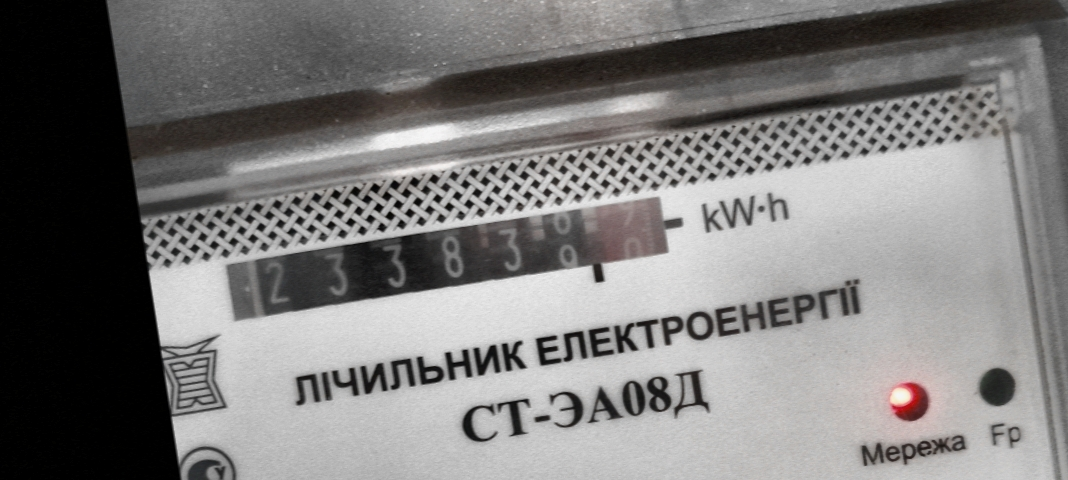0: (619, 232, 644, 261)
2: (260, 257, 291, 307)
3: (317, 246, 353, 299), (374, 238, 410, 291), (493, 223, 524, 272)
8: (434, 231, 467, 281), (547, 207, 574, 238)
9: (612, 196, 638, 229), (553, 239, 578, 271)
screen: (210, 182, 691, 343)
